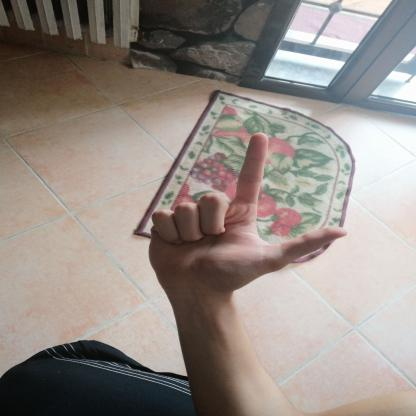LAAM: (137, 123, 359, 304)
